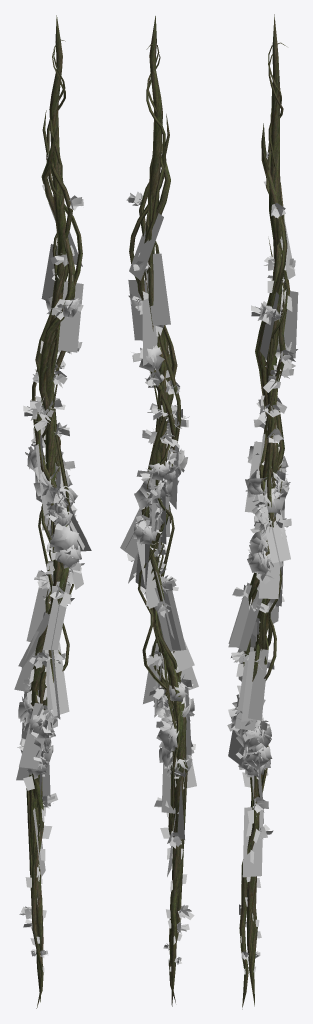
Rendered from Liana1_L1.fbx.
3 renders of one model, left to right at view 1: azimuth 30°, elevation 25°; view 2: azimuth 210°, elevation 25°; view 3: azimuth 330°, elevation 25°, orthographic.
Parts seen in each view (by area): view 1: polySurface29; view 2: polySurface29; view 3: polySurface29.
Boxes of the visible parts, x1=… form: polySurface29: x1=14, y1=15, x2=91, y2=1008; polySurface29: x1=120, y1=16, x2=198, y2=1006; polySurface29: x1=227, y1=14, x2=298, y2=1009.
Bounding box in the file's own units: 99.7 × 1433 × 91.03.
